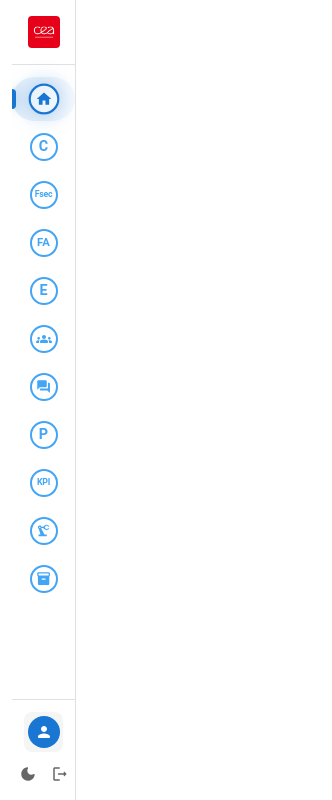
Sidebar — flyout en mode replié › ouvre un menu de choix au clic sur Stock sans naviguer
Click the button named "Stock" at (44, 579), box [30,565,58,593]
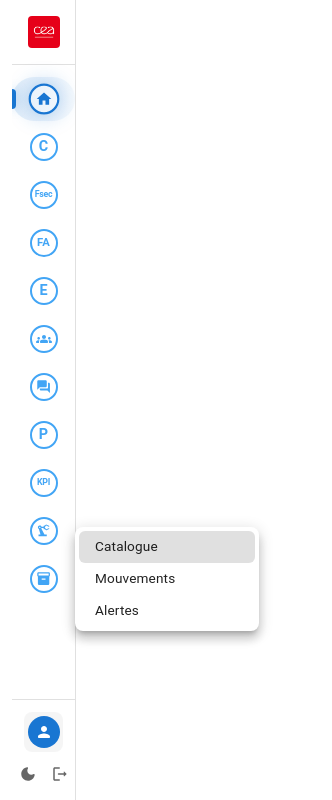
Check: the menu named "Stock" is shown, box [75,527,259,631]
Check: the menu item "Catalogue" is shown, box [79,531,255,563]
Check: the menu item "Mouvements" is shown, box [95,570,175,586]
